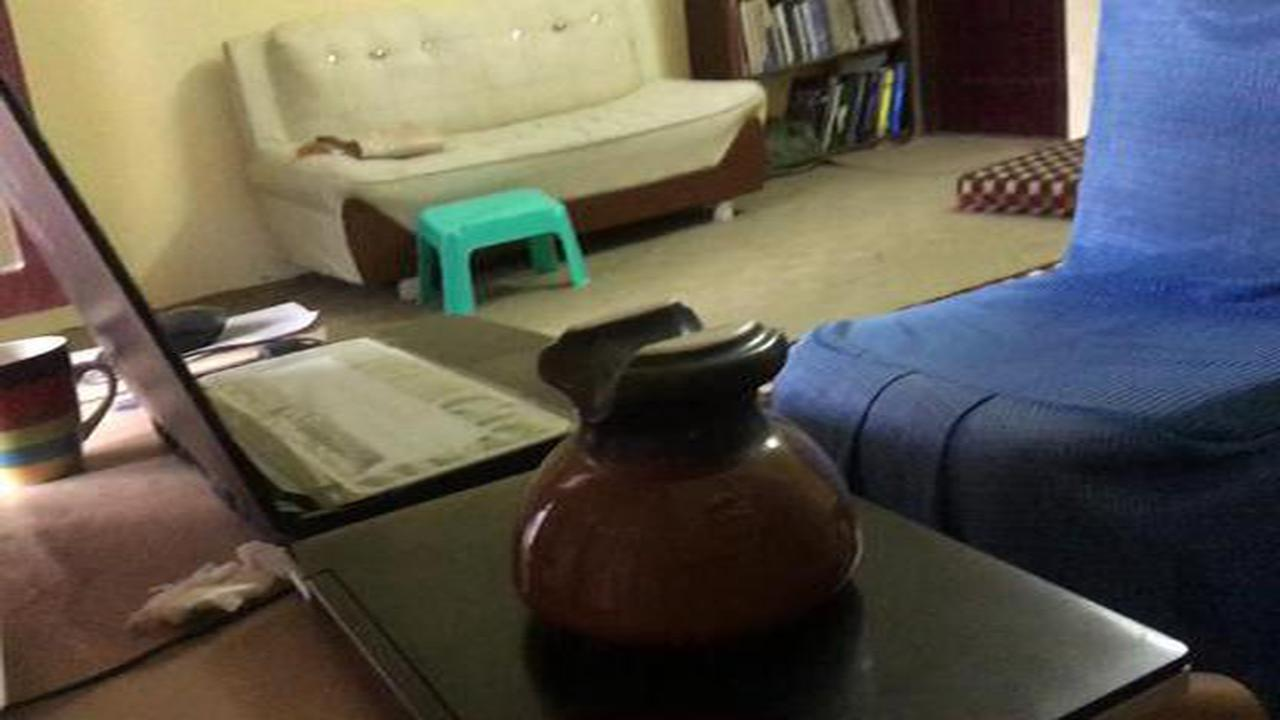insulator_pin: (499, 290, 881, 679)
